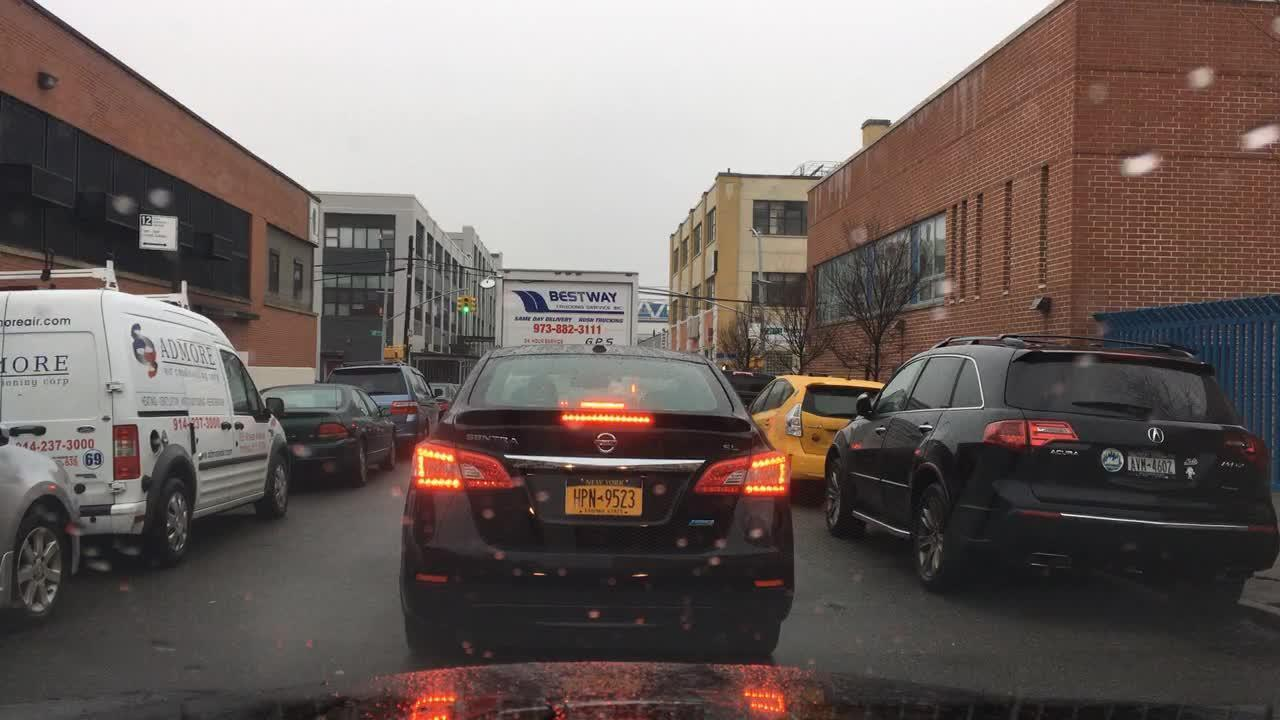Nissan: (590, 428, 622, 457)
acura: (1148, 426, 1168, 445)
